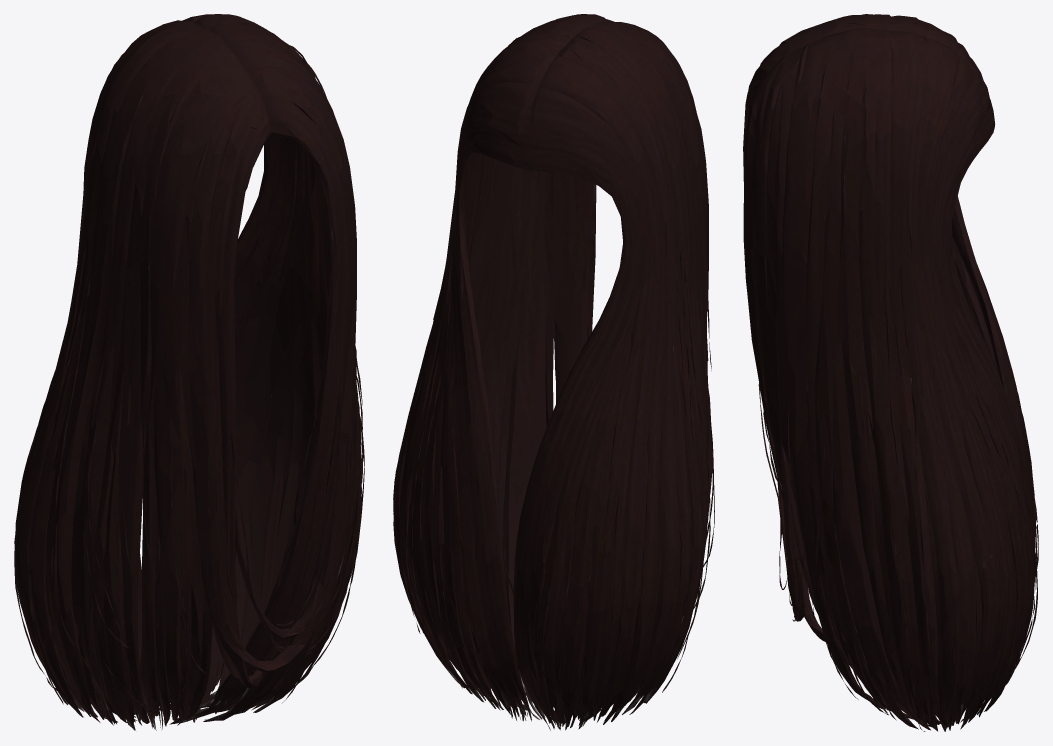
Rendered from hair_f_long.glb.
3 renders of one model, left to right at view 1: azimuth 30°, elevation 25°; view 2: azimuth 150°, elevation 25°; view 3: azimuth 270°, elevation 25°, orthographic. The views are drawn at different scales.
Bounding box in the file's own units: 0.881 × 1.91 × 0.7376.
1 material, 1 textured.
